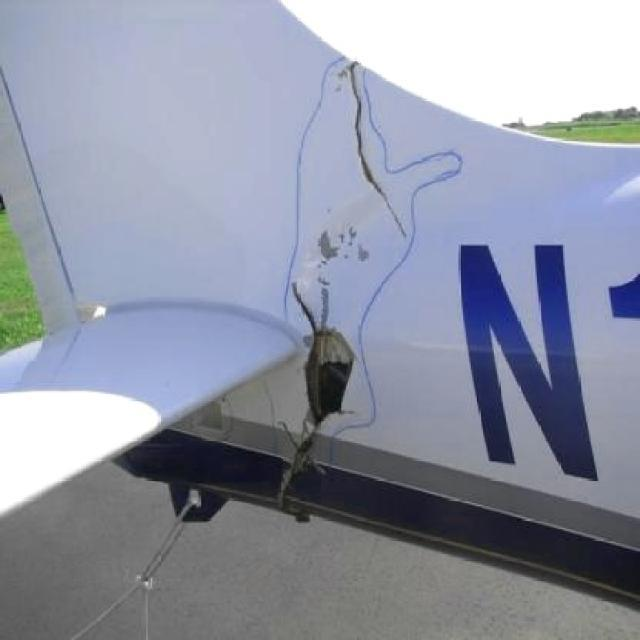crack: (347, 93, 395, 258)
